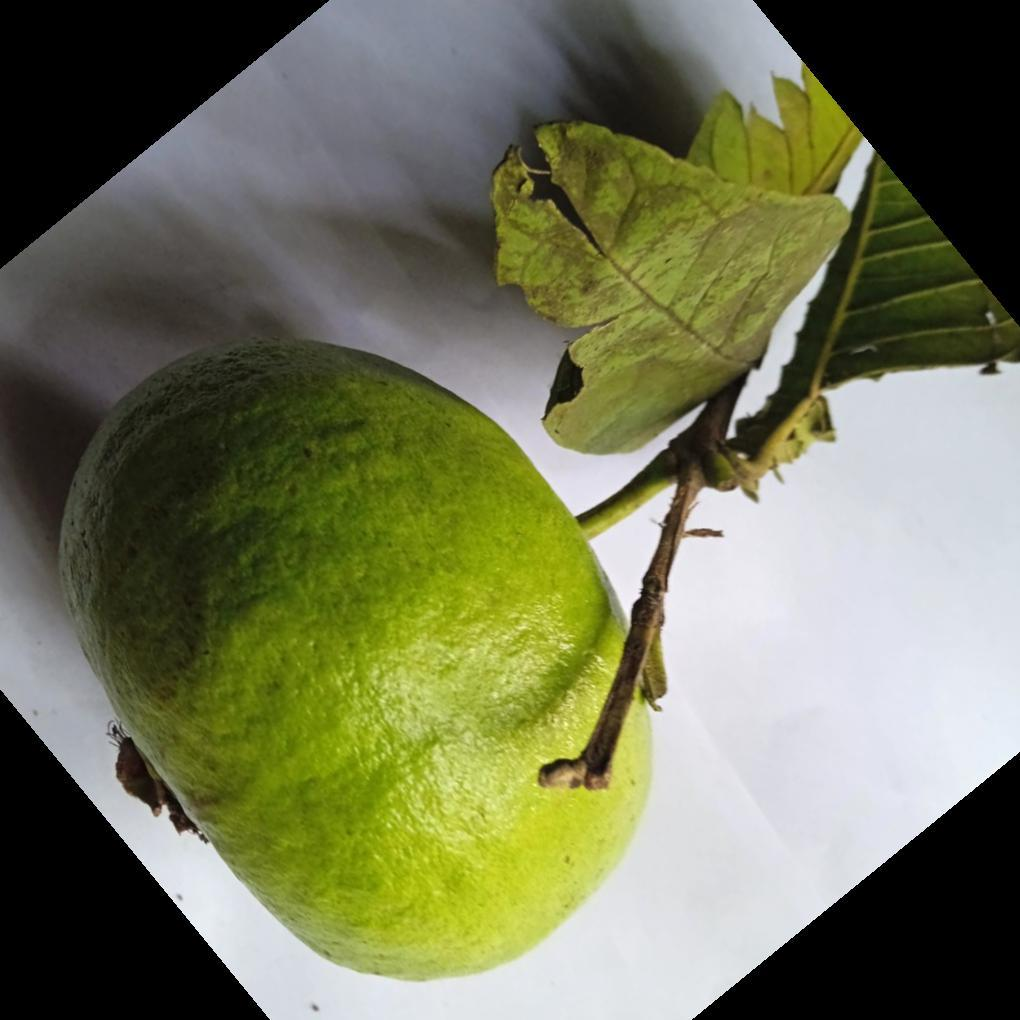FreshGuava: (57, 338, 662, 985)
